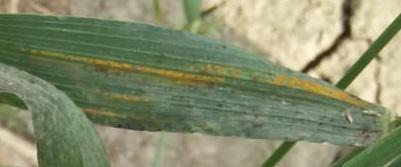Wheat: (24, 41, 232, 91)
